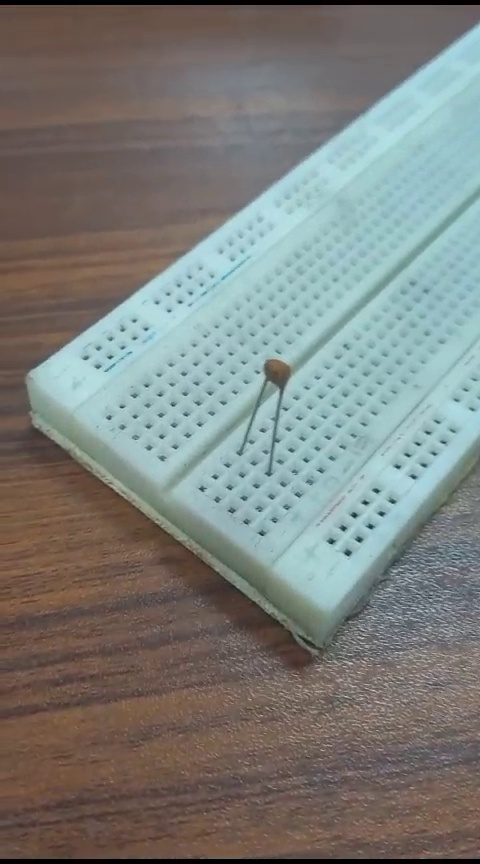ceramic capacitor: (244, 349, 299, 493)
